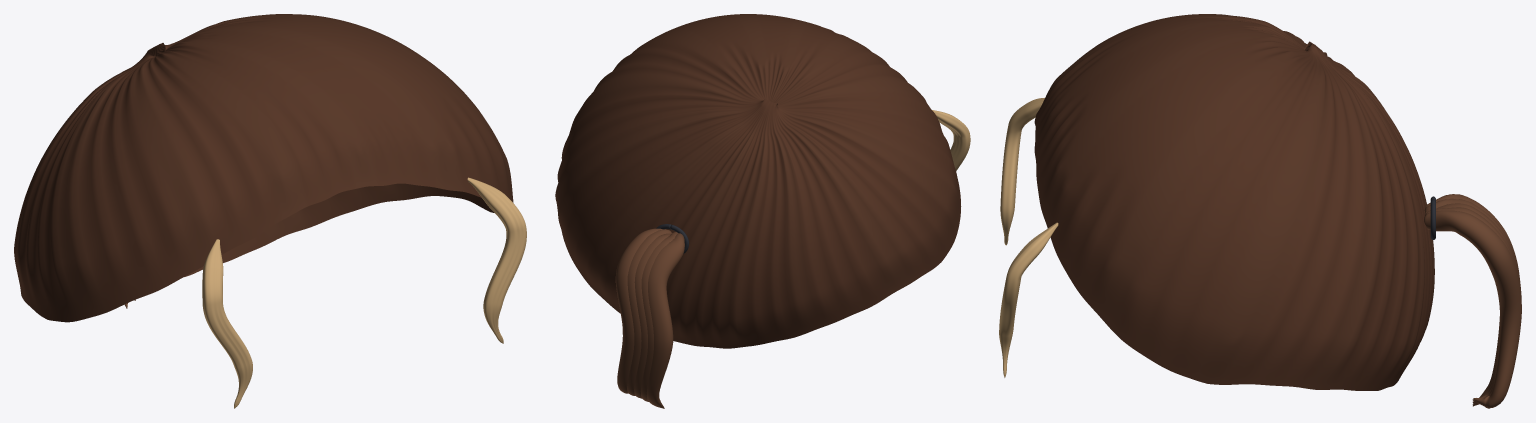
Rendered from Highlights-61ed6273d619251-hair.glb.
3 renders of one model, left to right at view 1: azimuth 30°, elevation 25°; view 2: azimuth 150°, elevation 25°; view 3: azimuth 270°, elevation 25°, orthographic. The views are drawn at different scales.
Visible parts, largest first — view 1: 226 hair / Hair / crisp pulled roots220.001, 226 hair / Hair / sculpted front locks222.001; view 2: 226 hair / Hair / crisp pulled roots220.001, 226 hair / Hair / chestnut226, 226 hair / Hair / sculpted front locks222.001; view 3: 226 hair / Hair / crisp pulled roots220.001, 226 hair / Hair / chestnut226, 226 hair / Hair / sculpted front locks222.001.
Part boxes in pixels (box(x1,y1,x2,y2)): 226 hair / Hair / crisp pulled roots220.001: box(14, 14, 513, 322); 226 hair / Hair / sculpted front locks222.001: box(202, 177, 526, 408); 226 hair / Hair / crisp pulled roots220.001: box(555, 14, 961, 348); 226 hair / Hair / chestnut226: box(615, 228, 684, 408); 226 hair / Hair / sculpted front locks222.001: box(932, 110, 970, 171); 226 hair / Hair / crisp pulled roots220.001: box(1034, 14, 1434, 390); 226 hair / Hair / chestnut226: box(1424, 194, 1521, 408); 226 hair / Hair / sculpted front locks222.001: box(999, 98, 1058, 377).
Bounding box in the file's own units: 0.9675 × 0.7594 × 0.9676.
